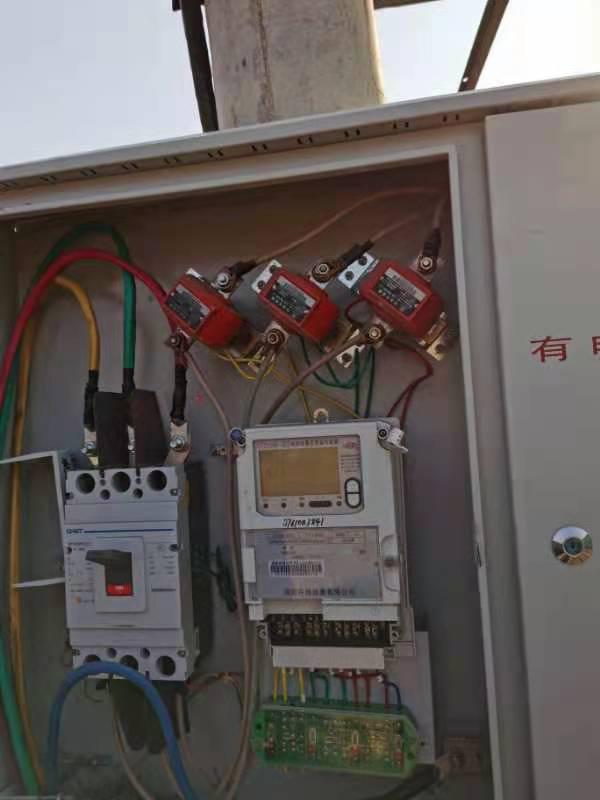digital: (233, 422, 397, 605)
